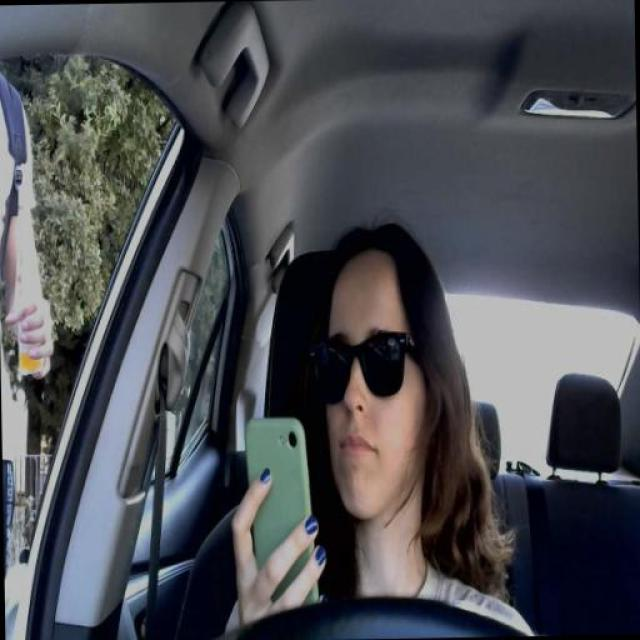phone: (246, 418, 319, 608)
